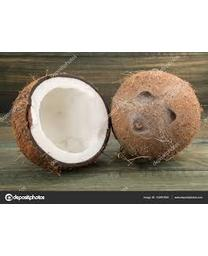coconut: (10, 73, 112, 172), (111, 69, 202, 164)
